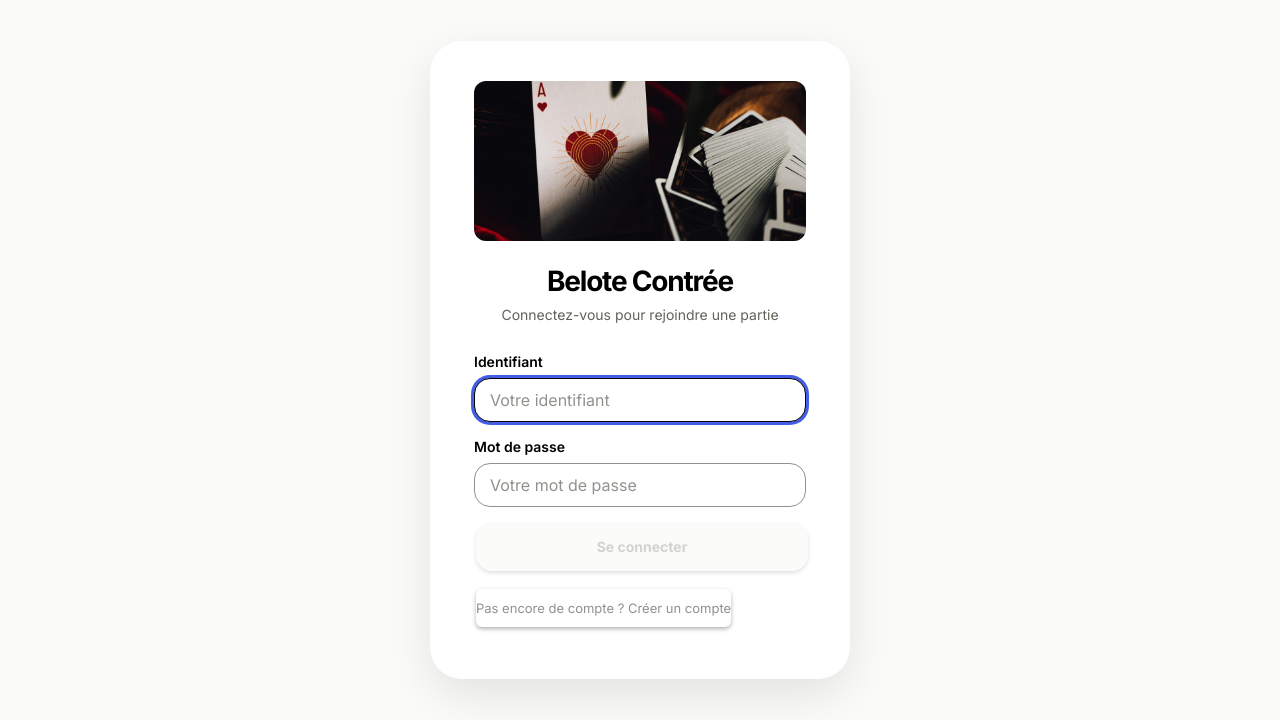
LoginPage › affiche un message d'erreur en cas d'identifiants invalides
This screenshot has width=1280, height=720.
Type "alice" into the field labelled "Identifiant".
click(640, 400); type("alice")  # box [474,378,806,422]
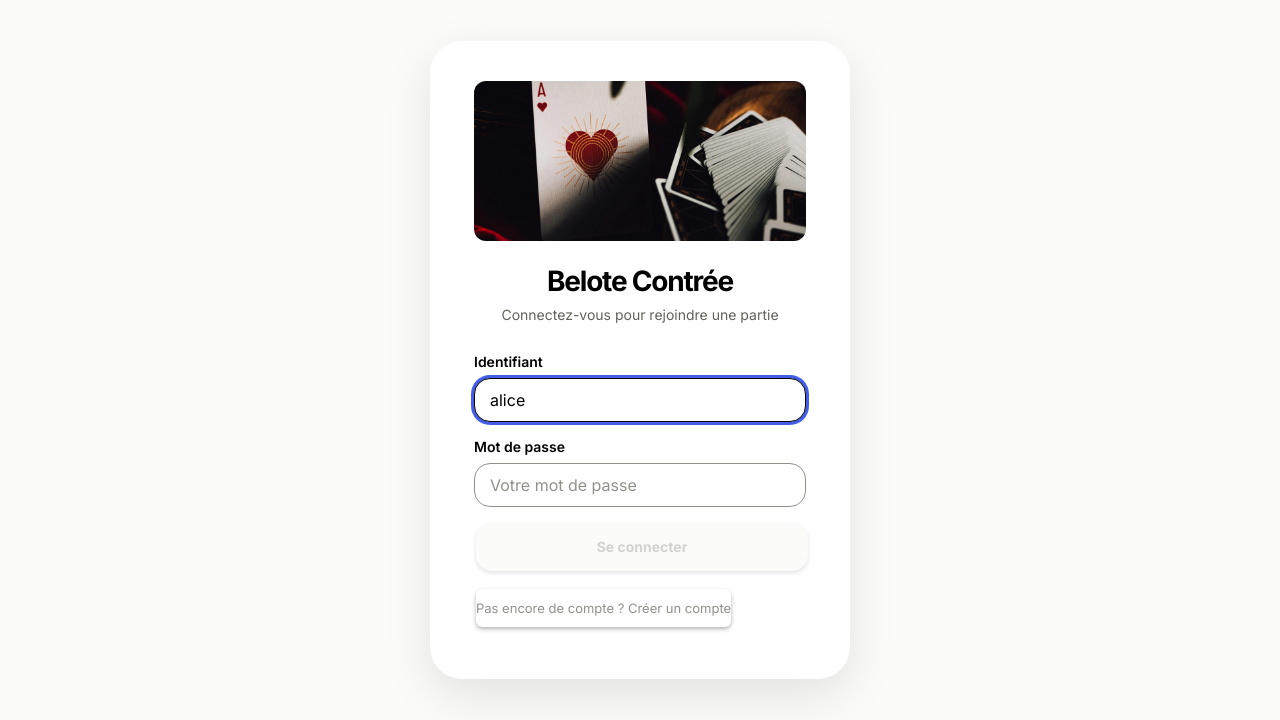
Type "mauvais" into the password field labelled "Mot de passe".
click(640, 485); type("mauvais")  # box [474,463,806,507]
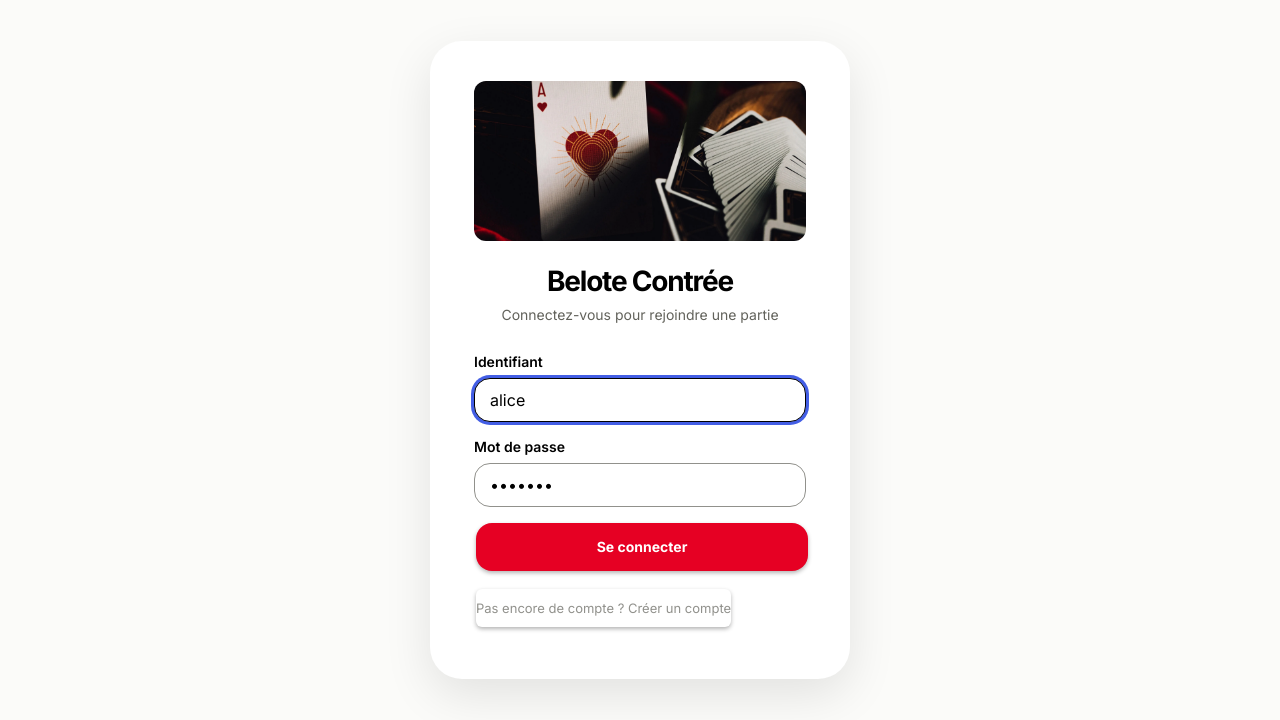
Click the button "Se connecter".
click(642, 547)  # box [476,523,808,571]
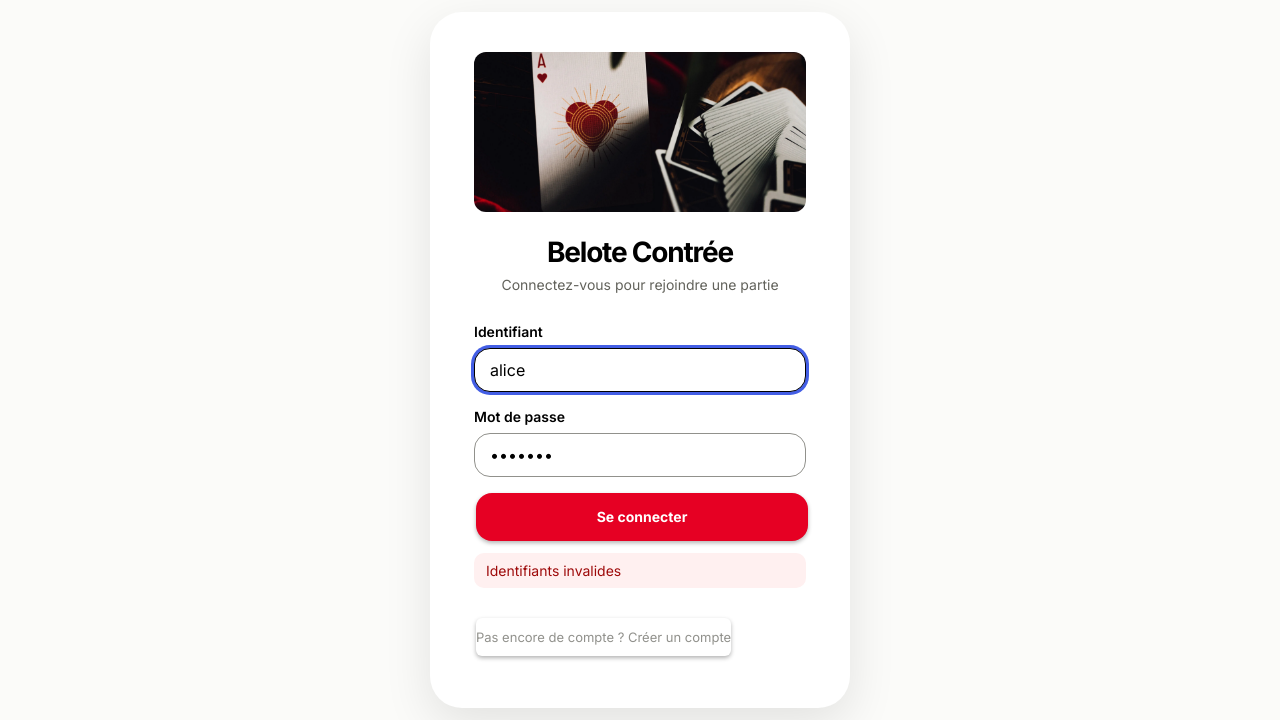
Expected: the text "Identifiants invalides" is shown, [474,553,806,588]
